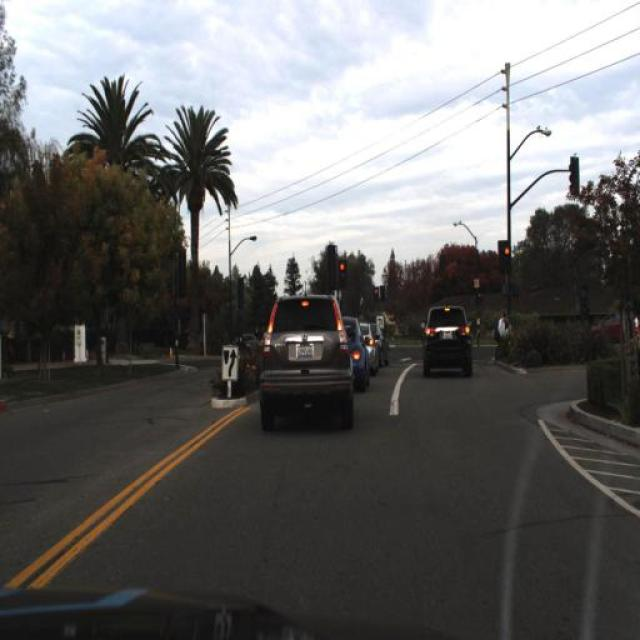car: (258, 290, 354, 426), (421, 303, 472, 377), (580, 302, 640, 349), (352, 314, 371, 397)
trafficLight: (492, 307, 508, 363), (502, 309, 512, 350)
trafficLight-RedLeft: (337, 258, 347, 294), (336, 260, 348, 285), (501, 241, 510, 271)
